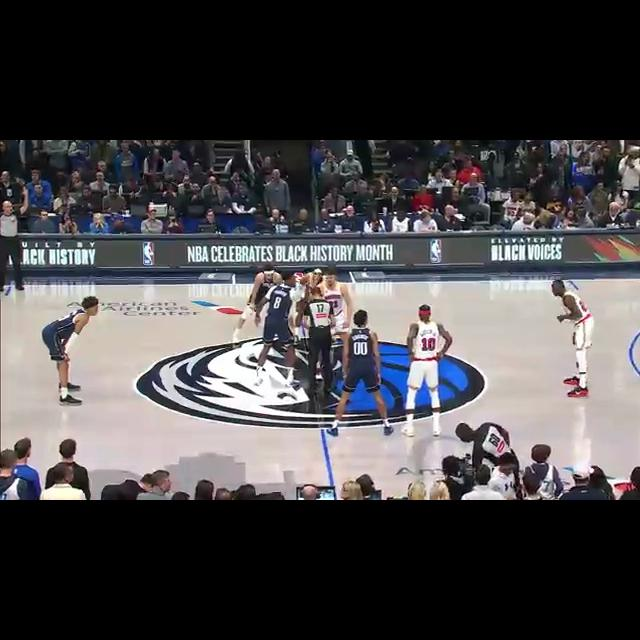Team-1-Player: (26, 290, 116, 412), (328, 299, 397, 443), (248, 266, 320, 392), (246, 261, 286, 305)
Team-2-Player: (397, 285, 467, 441), (535, 278, 603, 404), (316, 268, 354, 314)
